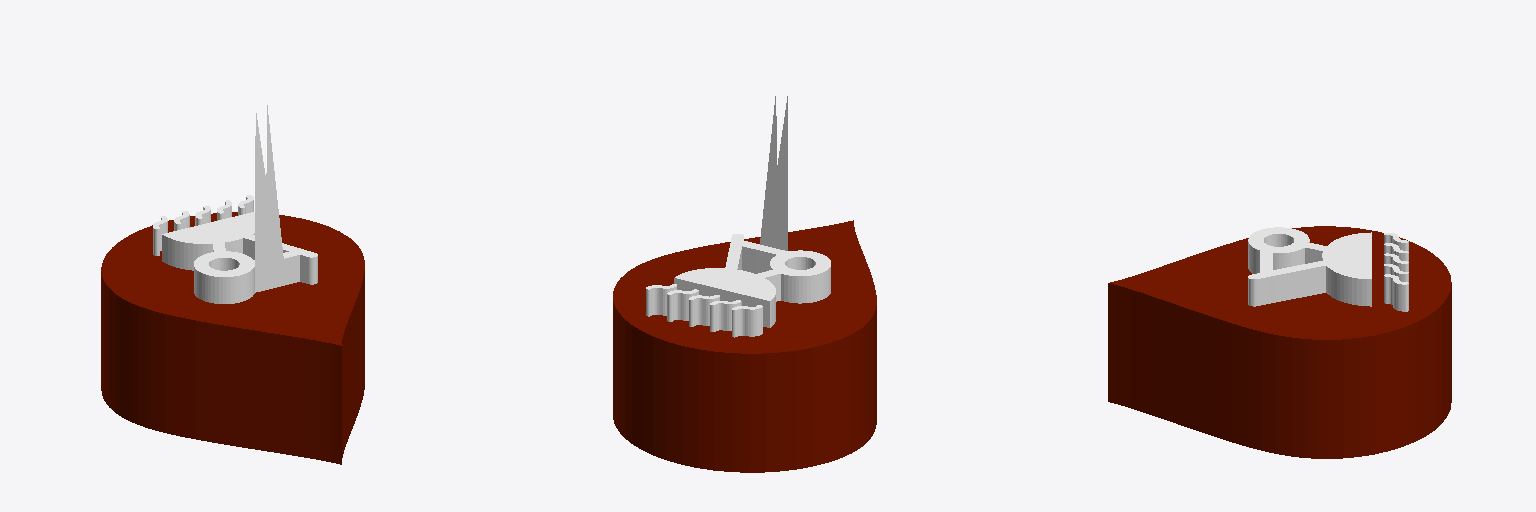
The model's file is bbq.obj.
3 renders of one model, left to right at view 1: azimuth 30°, elevation 25°; view 2: azimuth 150°, elevation 25°; view 3: azimuth 270°, elevation 25°, orthographic.
Parts seen in each view (by area): view 1: Curve, Curve.005; view 2: Curve, Curve.005; view 3: Curve, Curve.005.
Boxes of the visible parts, x1=… form: Curve: x1=101, y1=212, x2=364, y2=464; Curve.005: x1=153, y1=105, x2=317, y2=303; Curve: x1=613, y1=220, x2=876, y2=472; Curve.005: x1=646, y1=96, x2=830, y2=337; Curve: x1=1108, y1=226, x2=1451, y2=458; Curve.005: x1=1248, y1=227, x2=1408, y2=311.
Size of the model in its own units: 0.0062 by 0.008 by 0.0078.